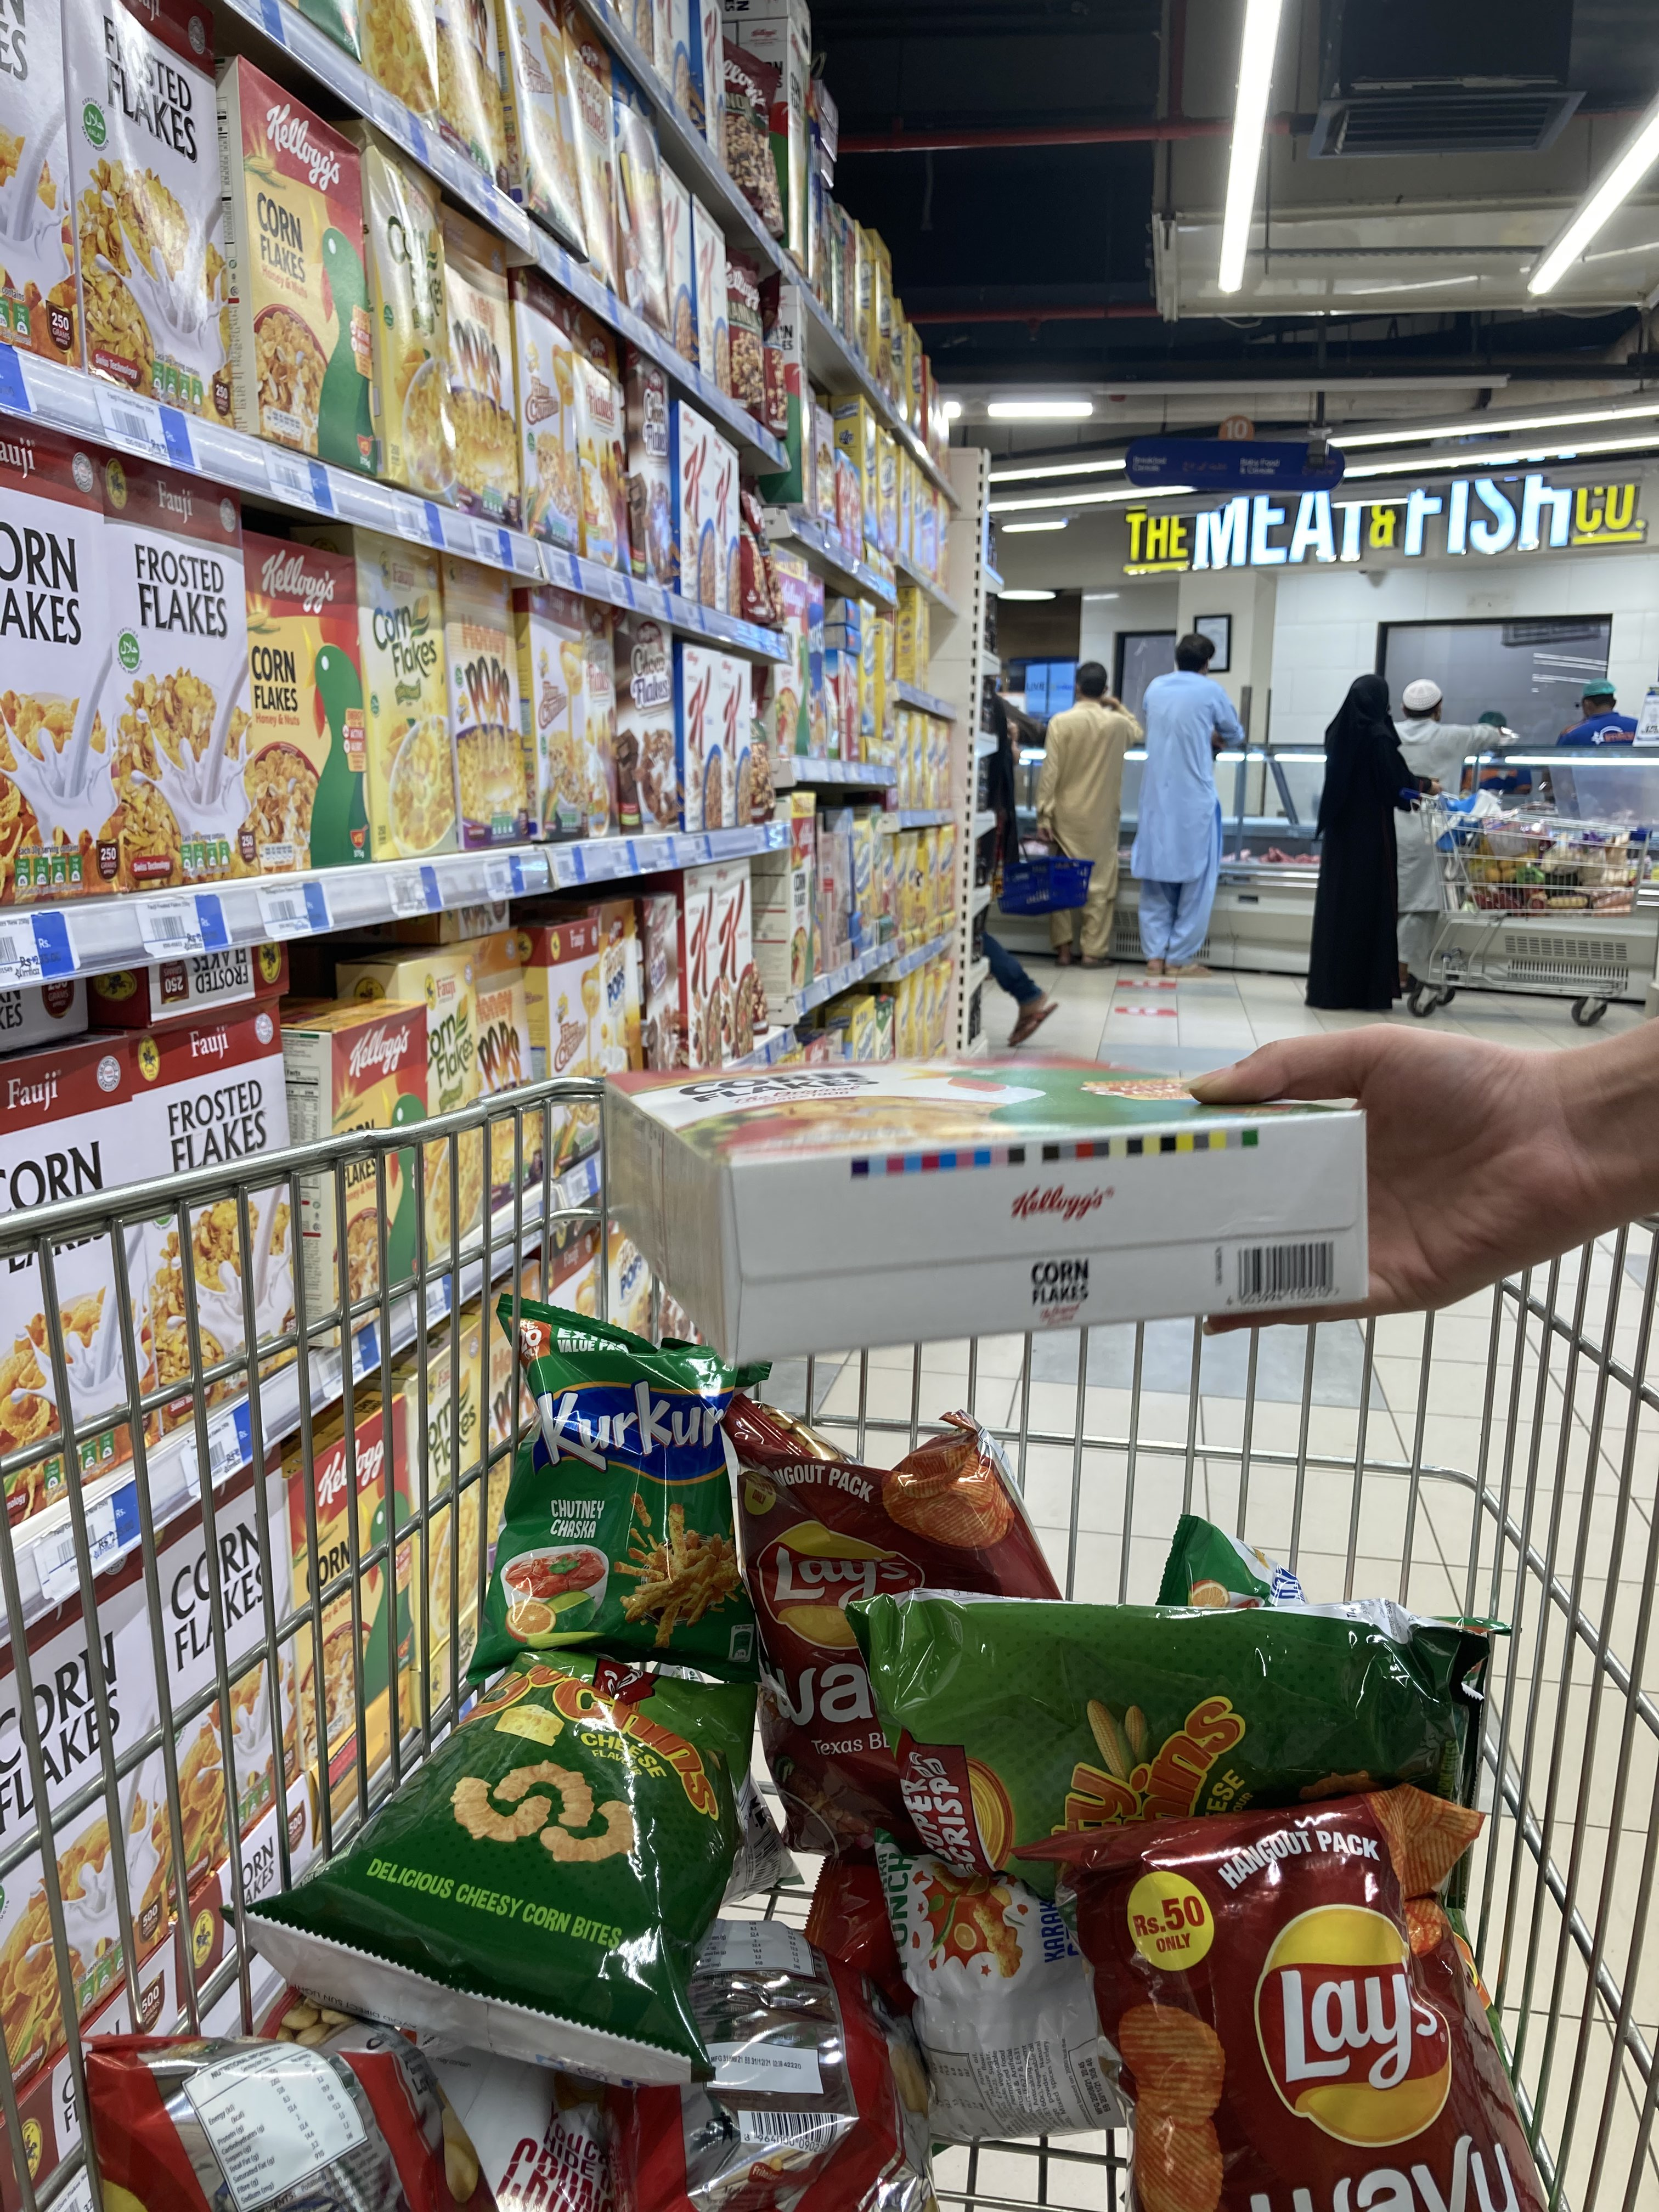Kellogg's Corn Flakes: (580, 1043, 1380, 1367)
